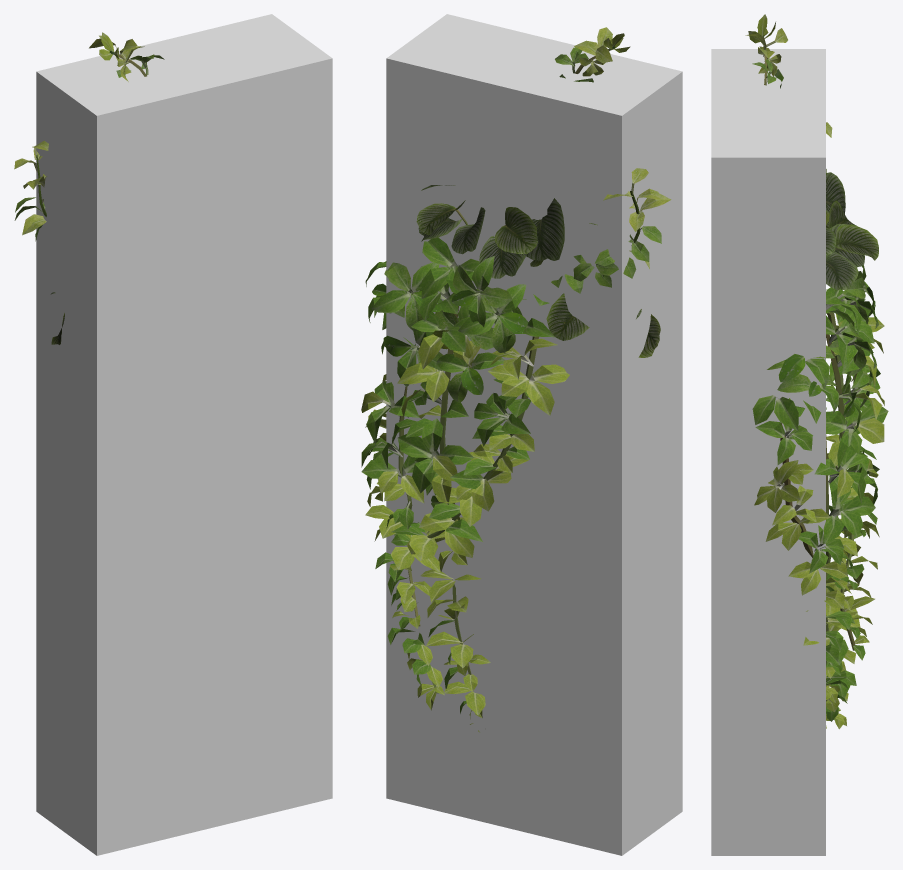
The model's file is UpLu_Marble_Planter.gltf.
3 views of the same model, side by side, from view 1: azimuth 30°, elevation 25°; view 2: azimuth 150°, elevation 25°; view 3: azimuth 270°, elevation 25° (orthographic). The views are drawn at different scales.
Visible parts, largest first — view 1: UpLu_Marble_Planter_bcol, UpLu_Wall_Foliage.001; view 2: UpLu_Marble_Planter_bcol, UpLu_Wall_Foliage.001; view 3: UpLu_Marble_Planter_bcol, UpLu_Wall_Foliage.001.
Boxes of the visible parts, box(x1,y1,x2,y2) form: UpLu_Marble_Planter_bcol: box(36, 14, 332, 855); UpLu_Wall_Foliage.001: box(14, 32, 164, 344); UpLu_Marble_Planter_bcol: box(386, 14, 682, 855); UpLu_Wall_Foliage.001: box(361, 27, 671, 732); UpLu_Marble_Planter_bcol: box(711, 49, 825, 855); UpLu_Wall_Foliage.001: box(745, 14, 888, 729).
Size of the model in its own units: 1.19 by 3.03 by 0.652.
Materials: 2 (2 with a texture image).
